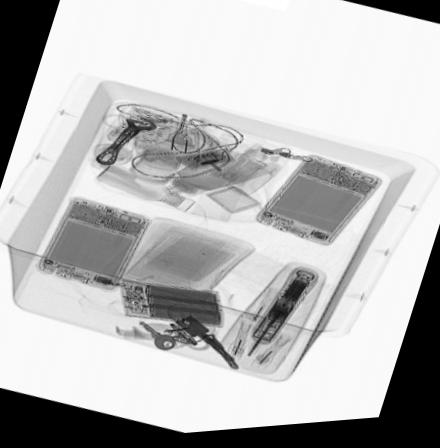Powerbank: (116, 280, 229, 334)
